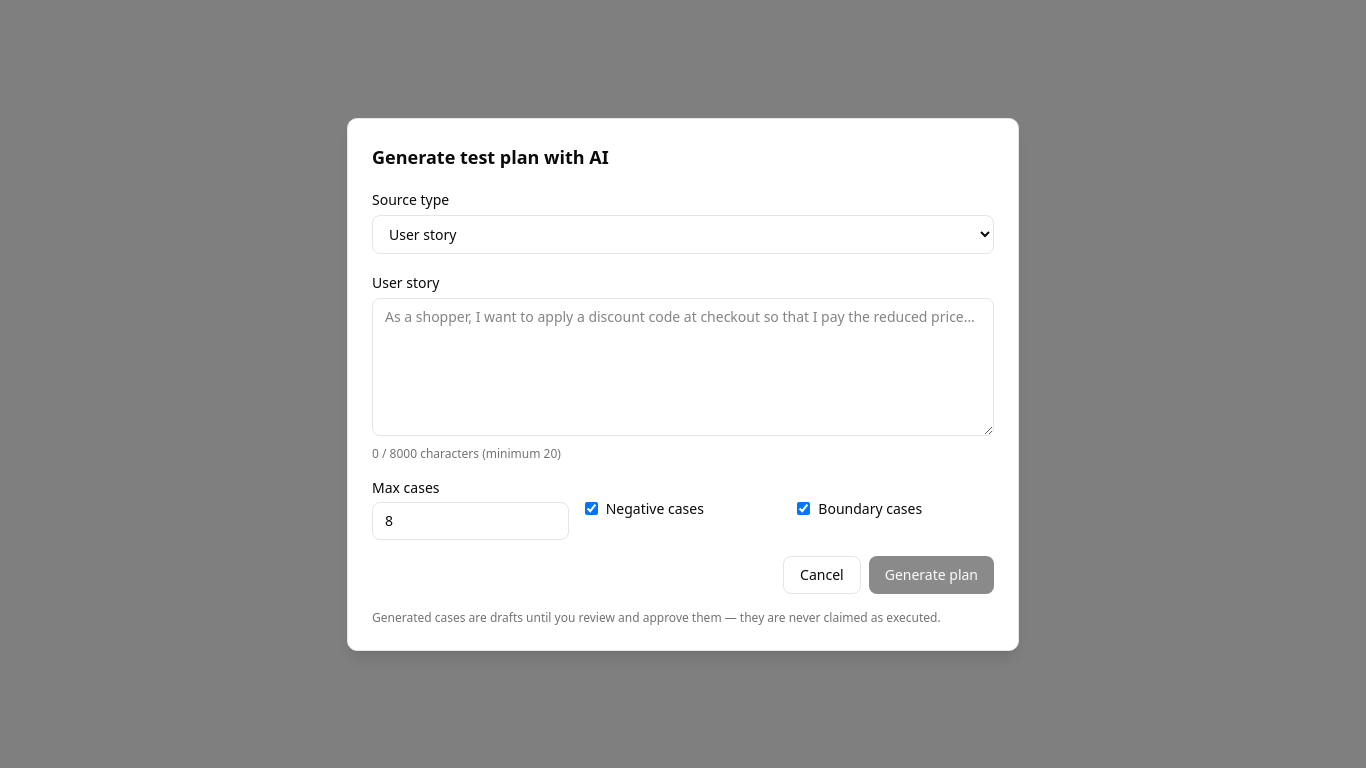
Test: GeneratePlanDialog › shows a usage estimate once the source is long enough
In the text box labelled "User story": {"x": 683, "y": 366} [372,298,994,436], type "As a shopper I want to apply a discount code at checkout."
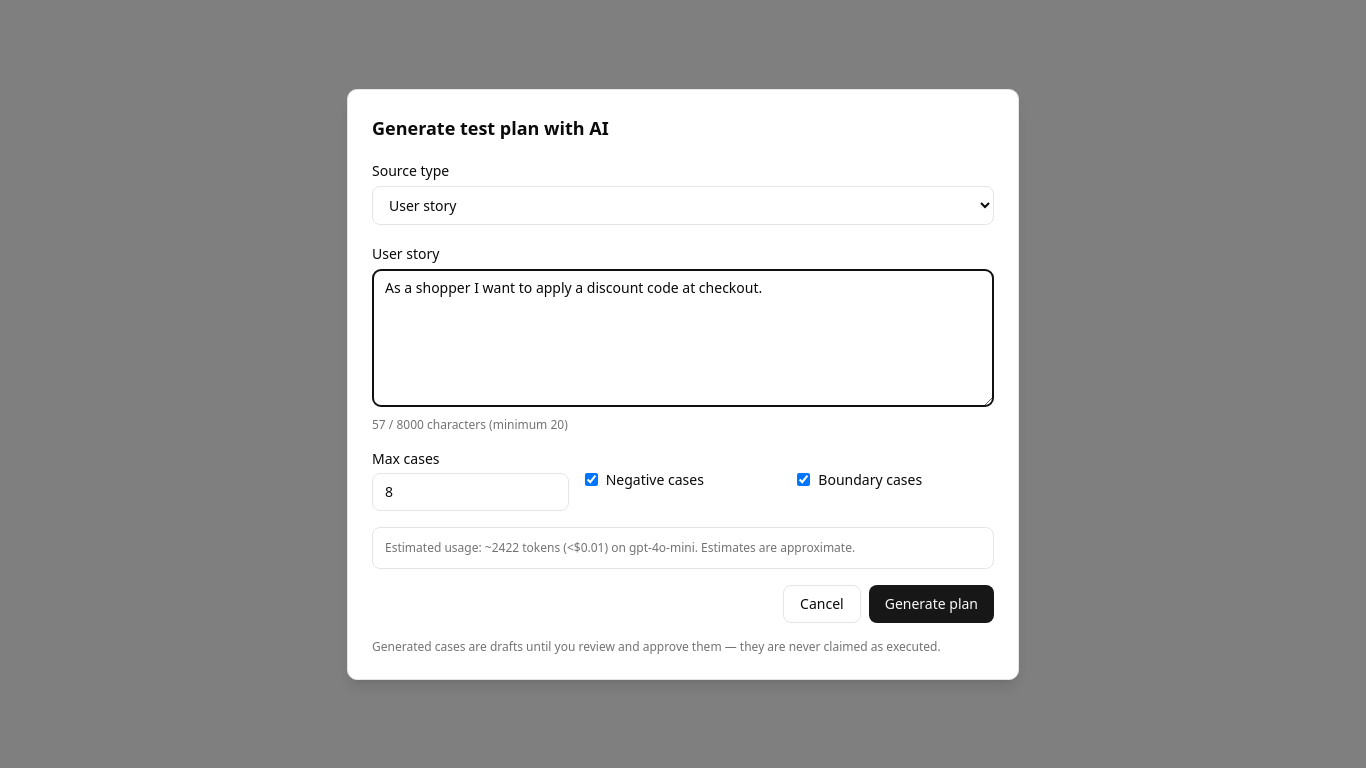
Check: the text "Estimated usage" is shown, box [385,538,492,556]
Check: the text "Estimates are approximate" is shown, box [695,538,855,556]
